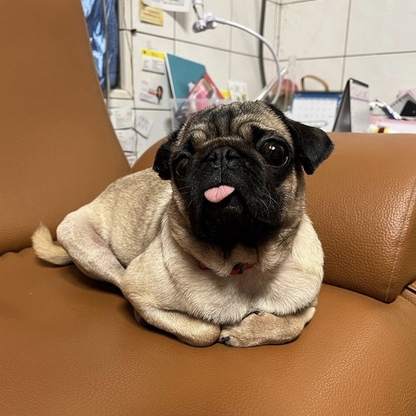Pug: (22, 91, 345, 355)
